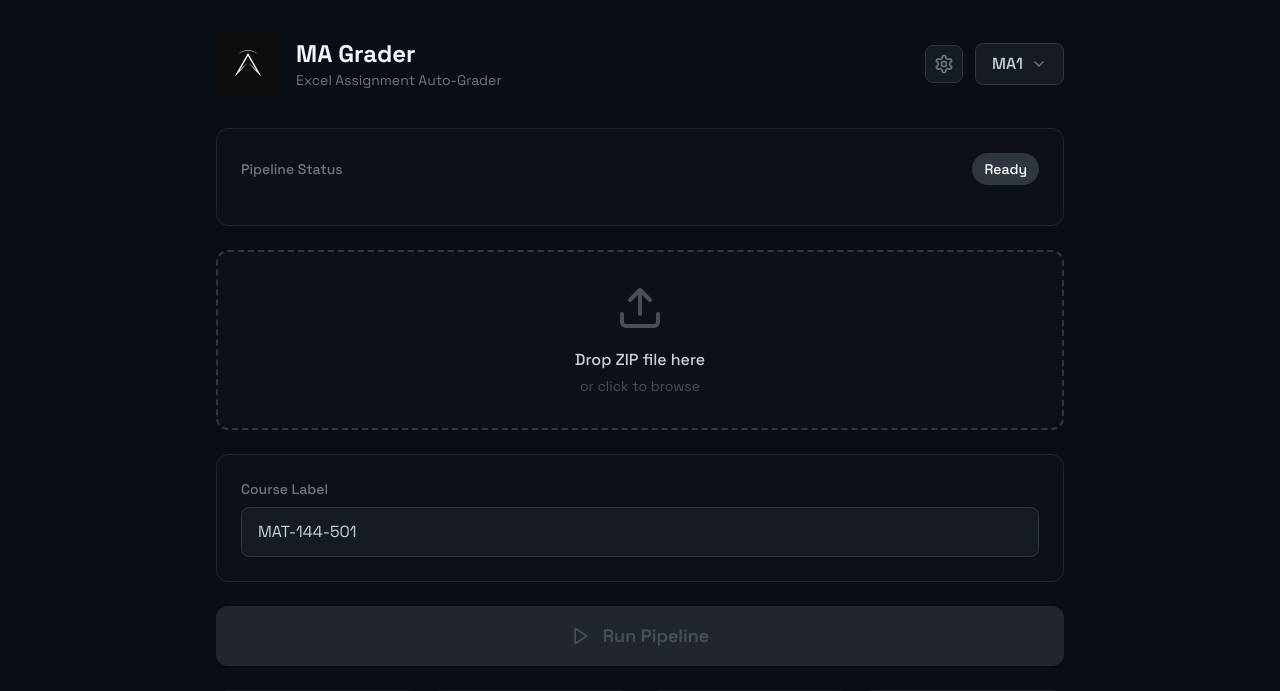
Test: App Component › Settings Modal › closes settings with Done button
Note: Open settings
Step 1. Click the button titled "Settings" → {"x": 944, "y": 64}, box [925,45,963,83]
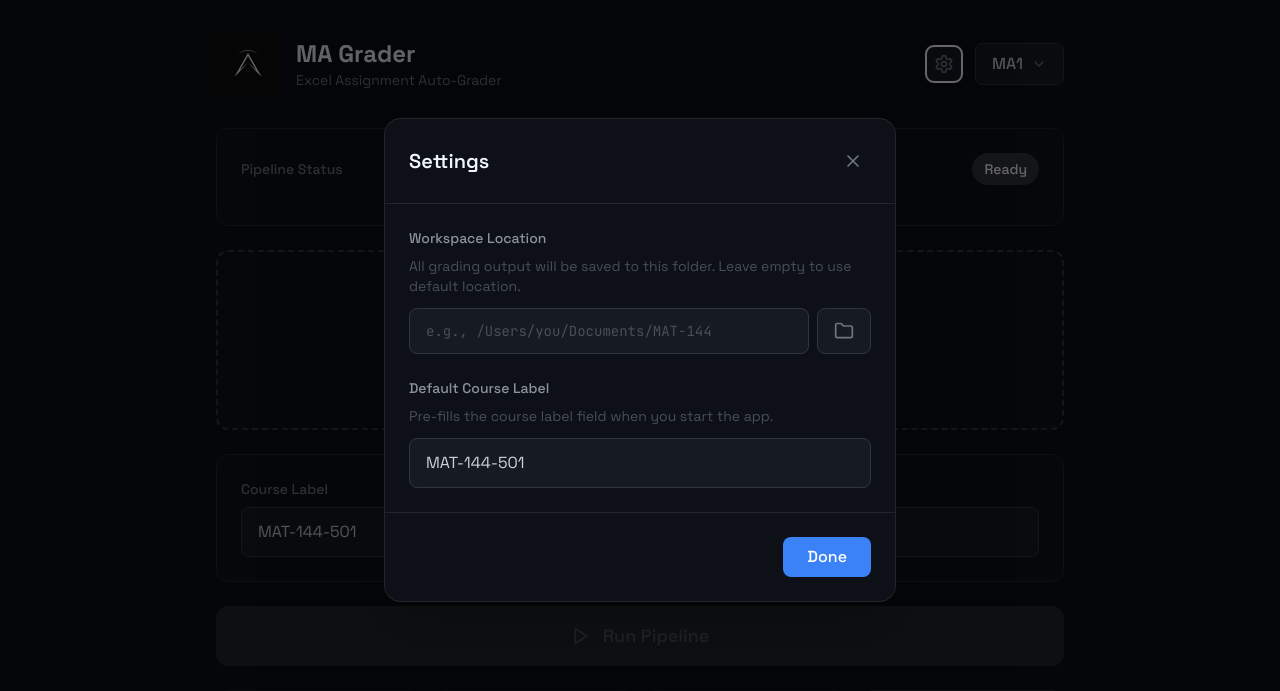
Note: Close settings (button says "Done" not "Close")
Step 2. Click the button "Done" → {"x": 827, "y": 557}, box [783,537,871,577]
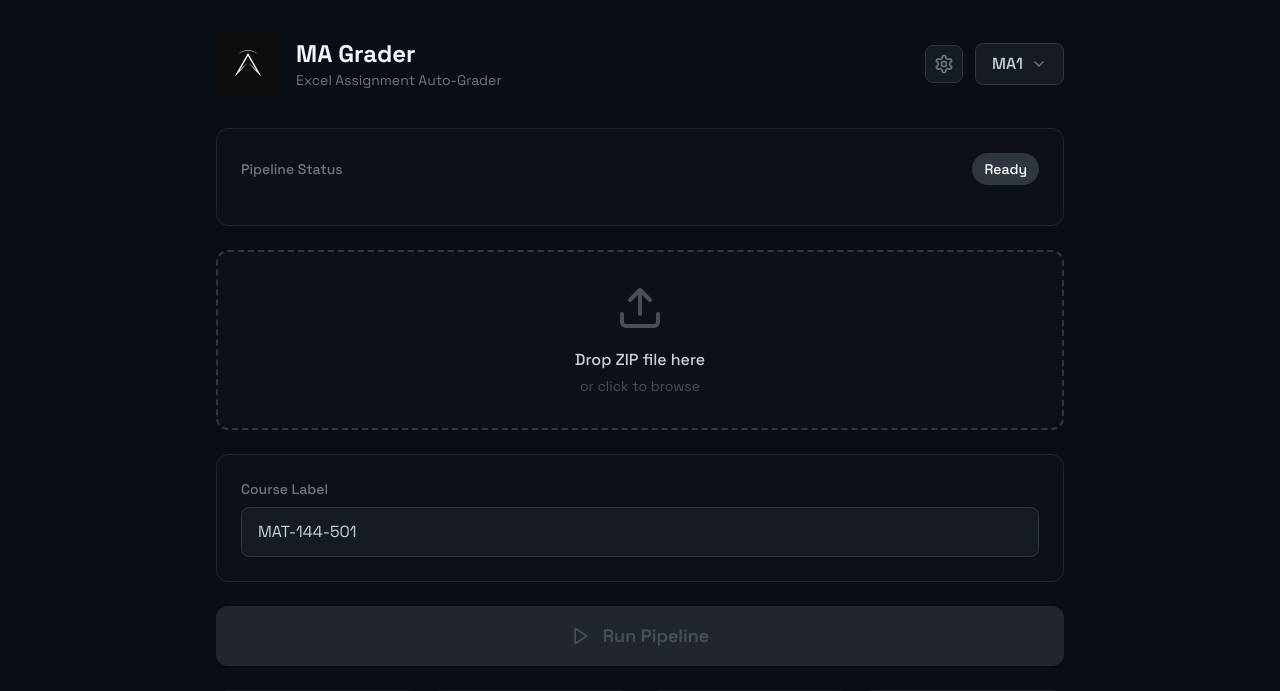
Now the heading "Settings" is gone
